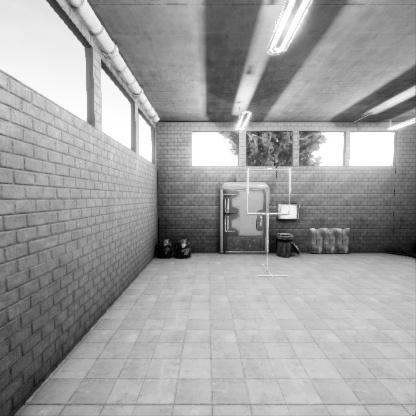gate: (247, 203, 293, 249)
